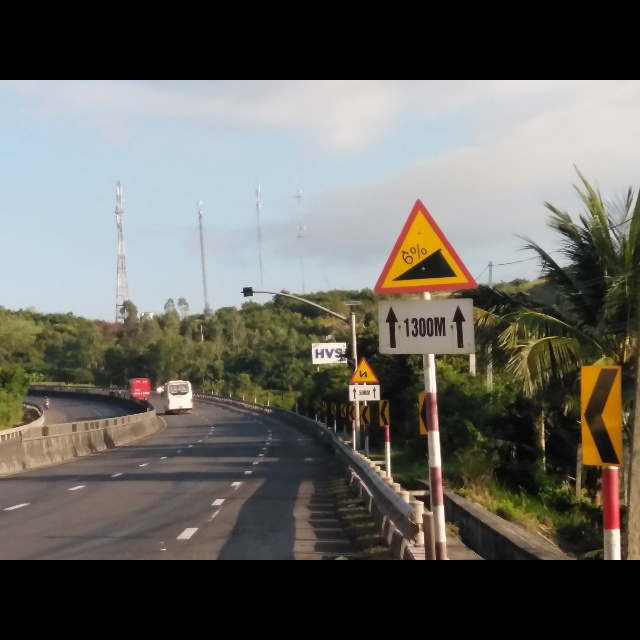Dốc lên nguy hiểm: (374, 197, 478, 293)
Ngoặt nguy hiểm liên tiếp bên phải: (350, 355, 380, 384)
